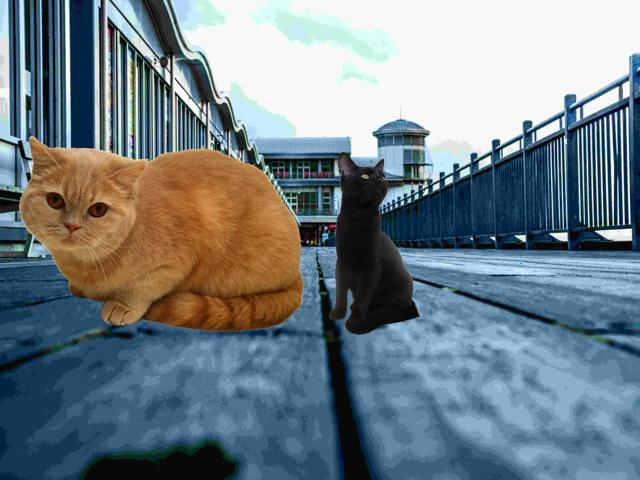cat: (13, 138, 303, 336), (309, 148, 425, 339)
